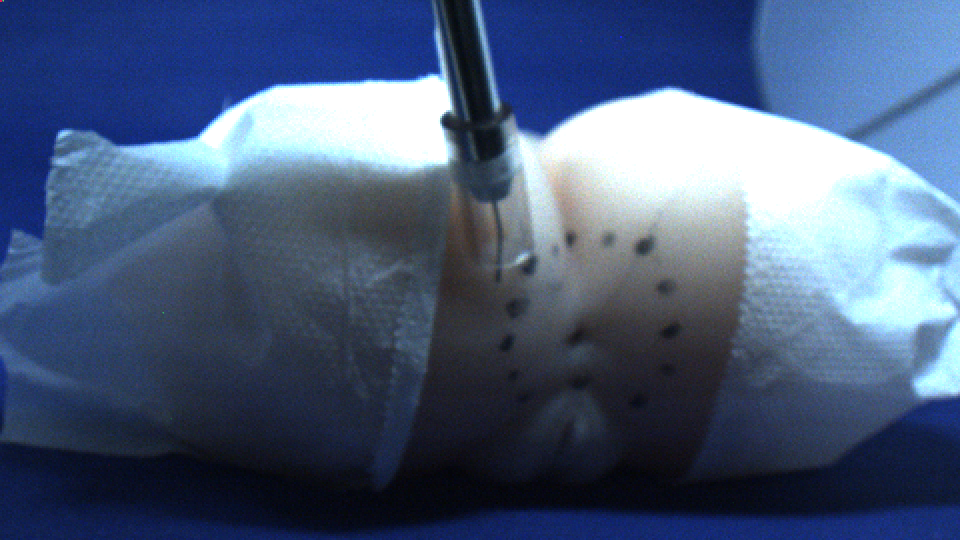asarp_marker: (658, 313, 689, 341), (632, 231, 663, 258), (556, 224, 584, 253), (652, 274, 684, 296), (658, 356, 687, 377), (565, 371, 595, 391), (506, 296, 530, 316), (601, 232, 618, 250), (510, 371, 532, 384), (630, 393, 649, 407), (500, 336, 516, 350)
